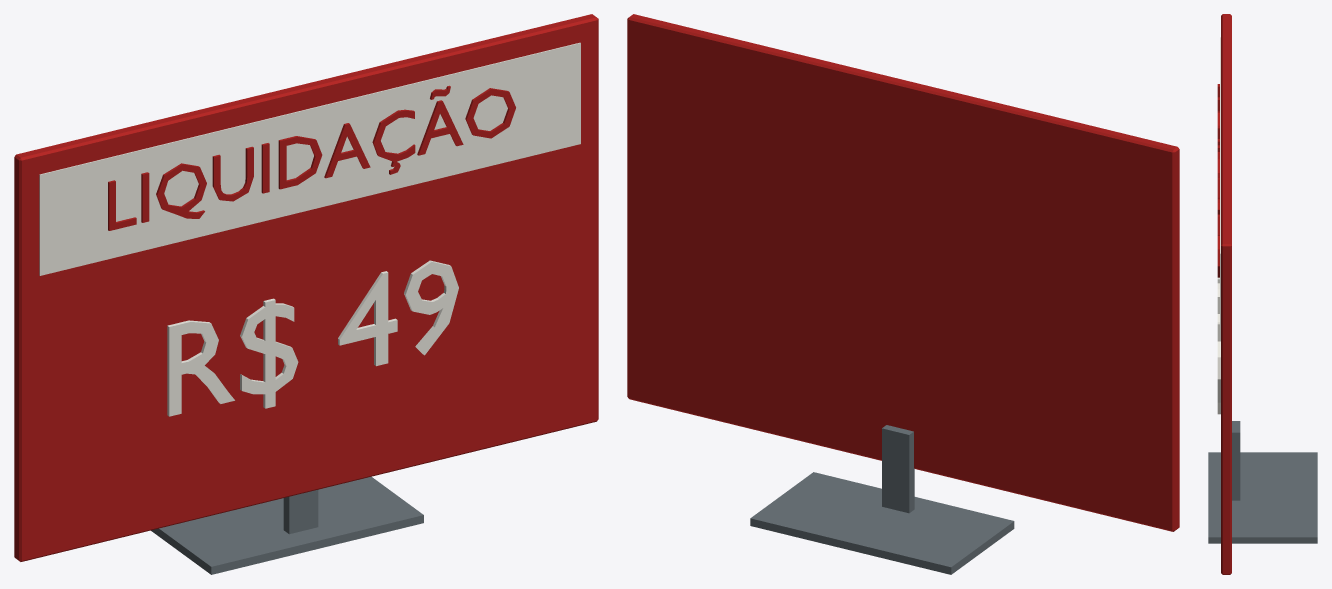
File: PlacaLiquidacao.fbx
3 views of the same model, side by side, from view 1: azimuth 30°, elevation 25°; view 2: azimuth 150°, elevation 25°; view 3: azimuth 270°, elevation 25° (orthographic). The views are drawn at different scales.
Visible parts, largest first — view 1: PlacaLiquidacao; view 2: PlacaLiquidacao; view 3: PlacaLiquidacao.
Boxes of the visible parts, bbox=[...] form: PlacaLiquidacao: bbox=[14, 14, 598, 574]; PlacaLiquidacao: bbox=[627, 14, 1179, 574]; PlacaLiquidacao: bbox=[1208, 14, 1317, 574].
Bounding box in the file's own units: 0.6 × 0.45 × 0.12.
